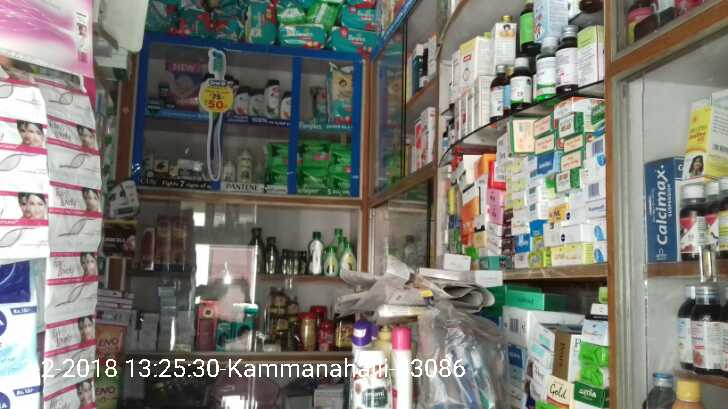beauty: (262, 79, 279, 118), (236, 148, 252, 183), (248, 86, 263, 118), (234, 83, 249, 115), (219, 158, 236, 182), (280, 90, 291, 121), (153, 157, 168, 179), (179, 156, 190, 180)
pharmacy: (327, 60, 354, 130), (247, 3, 277, 48), (329, 25, 373, 55), (277, 23, 326, 48), (339, 6, 387, 30), (212, 6, 243, 42), (177, 9, 208, 39), (150, 2, 178, 32), (298, 167, 329, 194), (274, 2, 306, 26), (331, 139, 352, 173), (302, 139, 329, 165), (307, 1, 336, 25), (264, 166, 287, 193), (330, 172, 350, 195), (270, 141, 287, 168)
